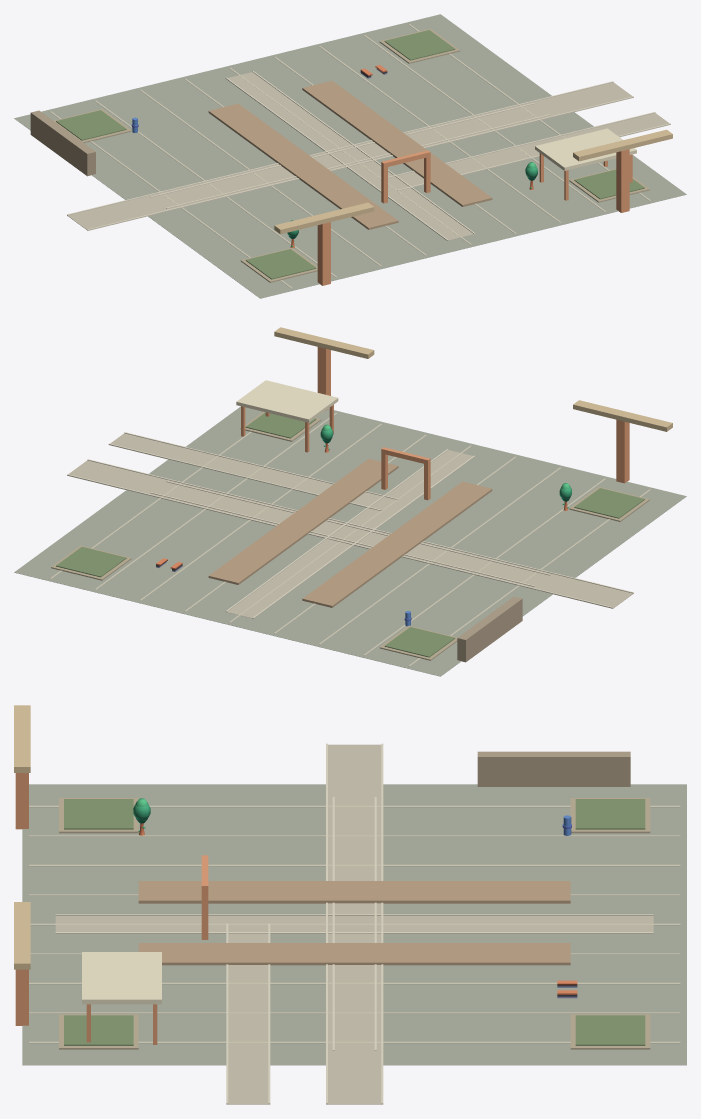
The model's file is gardens-4-1.glb.
3 views of the same model, one above another, from view 1: azimuth 30°, elevation 25°; view 2: azimuth 150°, elevation 25°; view 3: azimuth 270°, elevation 25° (orthographic). The views are drawn at different scales.
Visible parts, largest first — view 1: gardens-4-1; view 2: gardens-4-1; view 3: gardens-4-1.
Boxes of the visible parts, x1,y1,x2,y2 form: gardens-4-1: (14, 14, 686, 298); gardens-4-1: (14, 327, 686, 676); gardens-4-1: (14, 705, 686, 1104).
Size of the model in its own units: 256 by 30 by 202.
15 materials, 4 textured.
